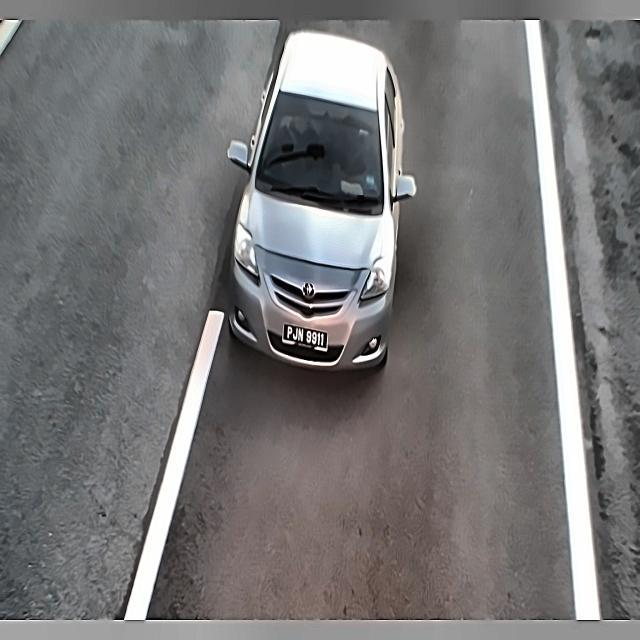car: (278, 319, 331, 357)
